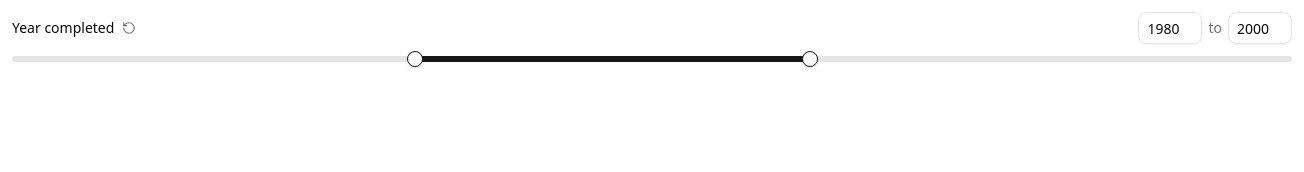
a typed value is clamped to the limits
Replace the text in the number field named "Year completed, from" with "1900" at [1170, 28], box 1138,12 -> 1202,44
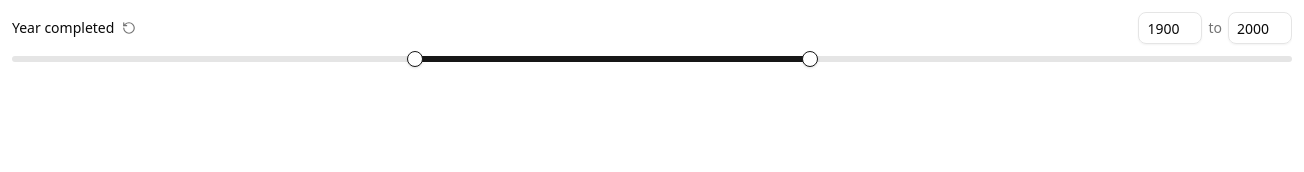
Press Enter in the number field named "Year completed, from", box 1138,12 -> 1202,44
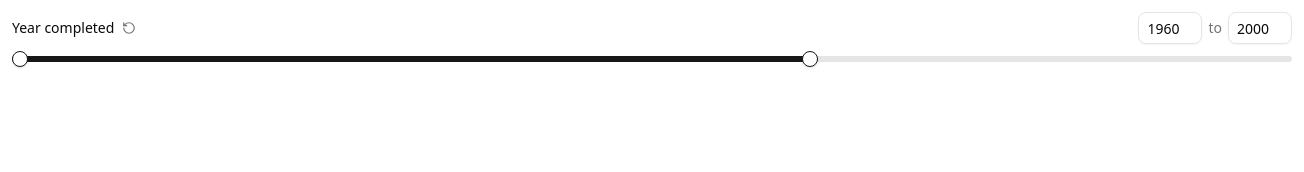
Replace the text in the number field named "Year completed, to" with "2100" at [1260, 28], box 1228,12 -> 1292,44
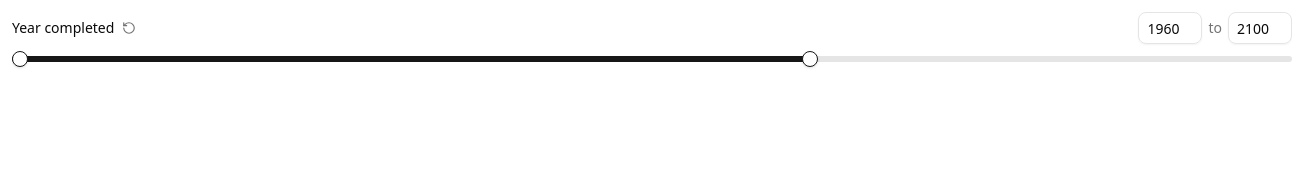
Press Enter in the number field named "Year completed, to", box 1228,12 -> 1292,44
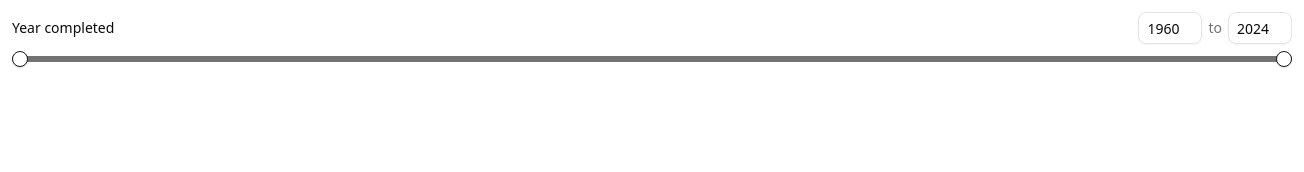
Now the number field named "Year completed, to" holds "2024", box 1228,12 -> 1292,44
